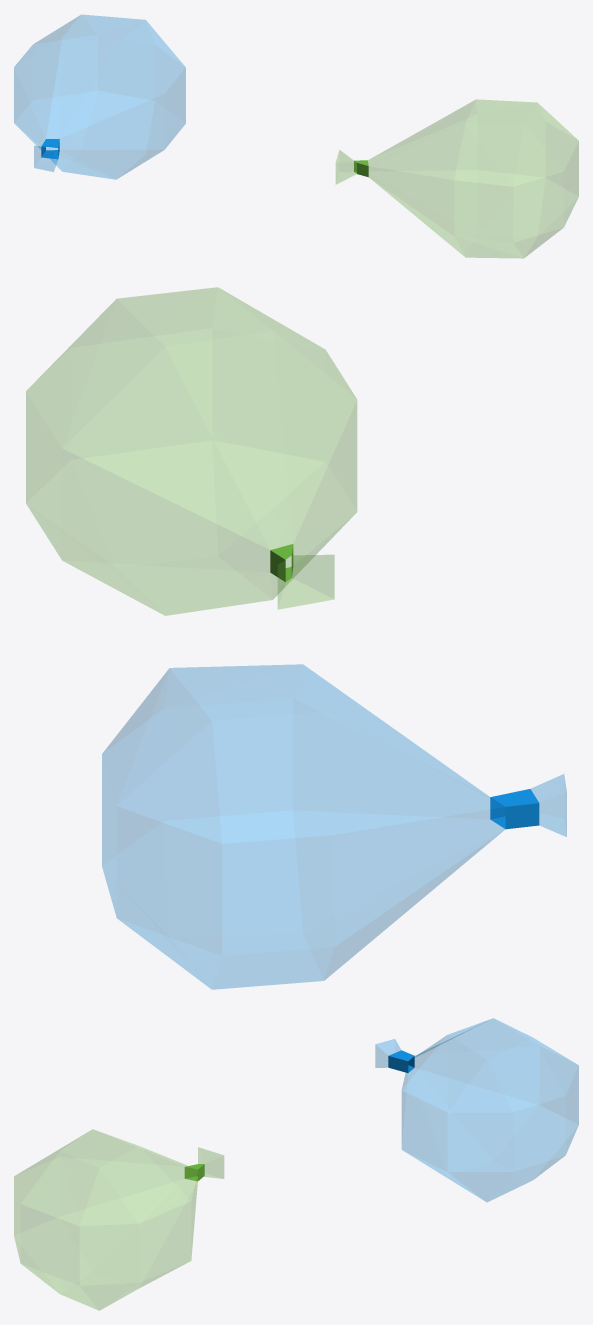
File: model_loc_115_2.obj
3 renders of one model, top to bottom at view 1: azimuth 30°, elevation 25°; view 2: azimuth 150°, elevation 25°; view 3: azimuth 270°, elevation 25°, orthographic. The views are drawn at different scales.
Parts seen in each view (by area): view 1: 2226; view 2: 2226; view 3: 2226.
Part boxes in pixels (<box>): 2226: <box>14,14,578,258</box>; 2226: <box>26,287,566,989</box>; 2226: <box>14,1018,578,1310</box>.
Size of the model in its own units: 74 by 24 by 86.
